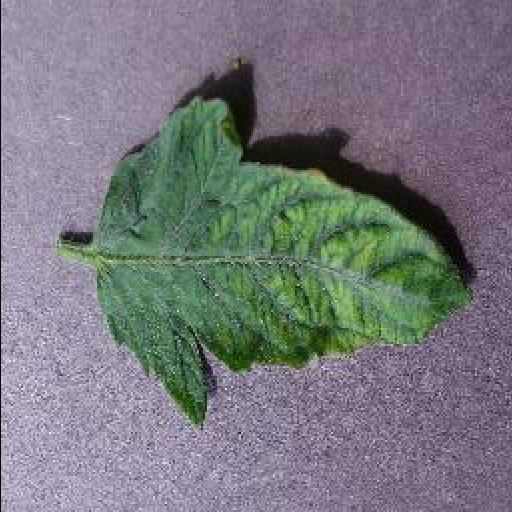Mosaic Virus: (94, 93, 476, 427)
